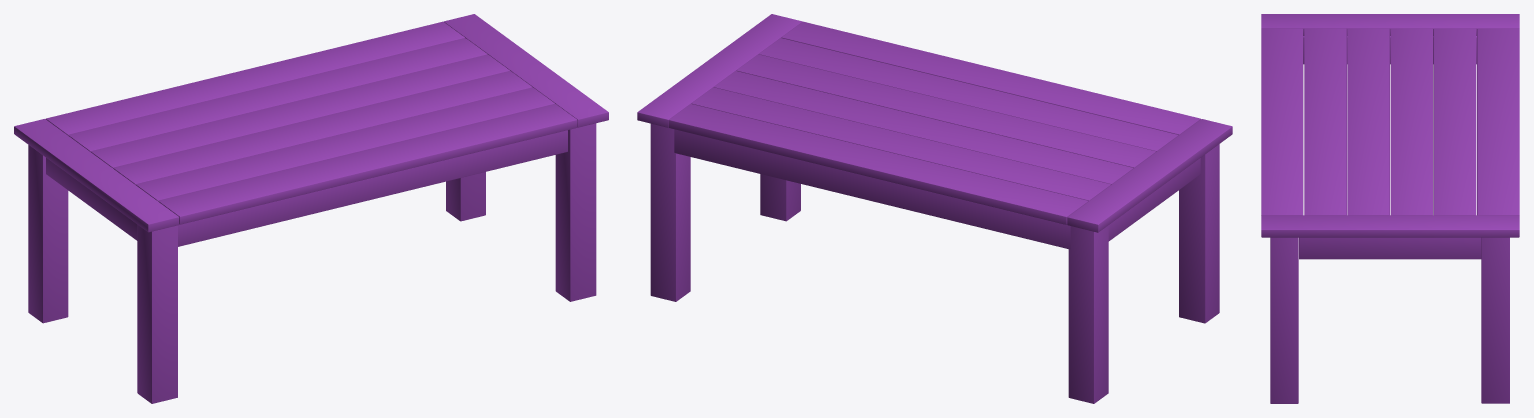
Rendered from House_DinningTable.FBX.
The picture shows the model from 3 angles, left to right: view 1: azimuth 30°, elevation 25°; view 2: azimuth 150°, elevation 25°; view 3: azimuth 270°, elevation 25°; orthographic projection. The views are drawn at different scales.
Visible parts, largest first — view 1: House_DinningTable; view 2: House_DinningTable; view 3: House_DinningTable.
Boxes of the visible parts, x1,y1,x2,y2 form: House_DinningTable: (14, 14, 608, 403); House_DinningTable: (637, 14, 1232, 403); House_DinningTable: (1261, 14, 1519, 403).
Size of the model in its own units: 191 by 73.4 by 96.55.
